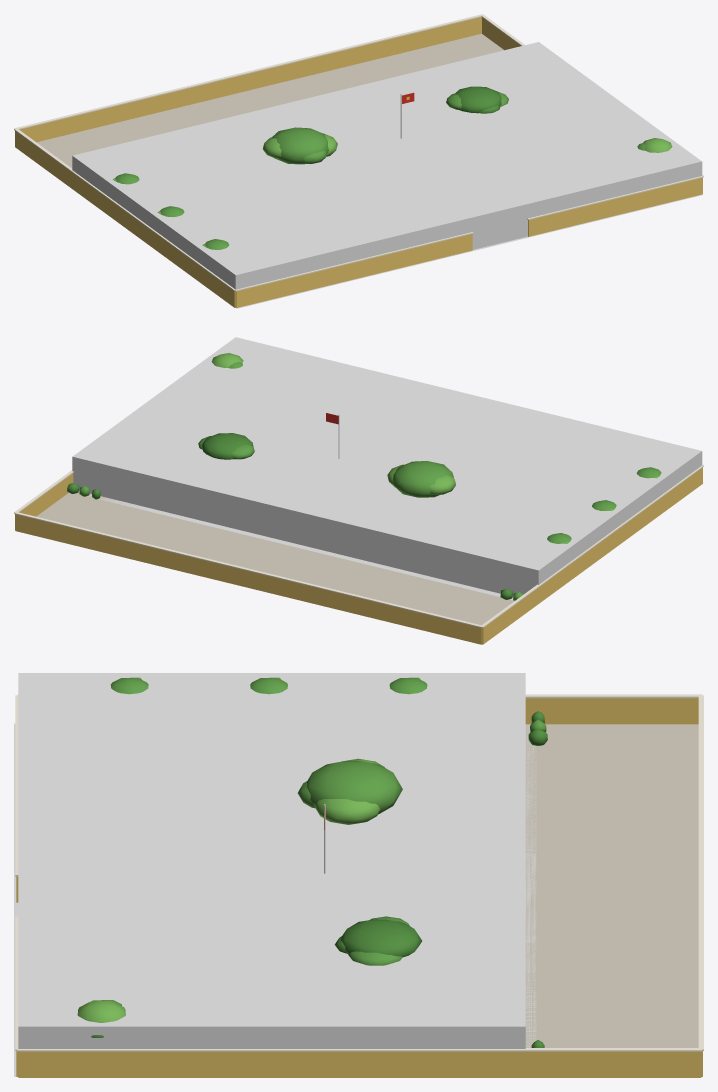
Rendered from zone_yard.glb.
3 views of the same model, one above another, from view 1: azimuth 30°, elevation 25°; view 2: azimuth 150°, elevation 25°; view 3: azimuth 270°, elevation 25° (orthographic). The views are drawn at different scales.
Visible parts, largest first — view 1: ZONE_yard, GROUND_yard_concrete, WALL_fence_north, WALL_fence_south_w, WALL_fence_west, WALL_fence_south_e, TREE_phuong, TREE_bang, WALL_fence_east, FLOOR_yard; view 2: ZONE_yard, GROUND_yard_concrete, WALL_fence_north, WALL_fence_west, TREE_phuong, FLOOR_yard, TREE_bang, WALL_fence_east; view 3: ZONE_yard, GROUND_yard_concrete, WALL_fence_east, WALL_fence_west, TREE_phuong, FLOOR_yard, TREE_bang, WALL_fence_north, TREE_east_1, WALL_fence_south_w.
Boxes of the visible parts, x1=… form: ZONE_yard: x1=72, y1=42, x2=702, y2=289; GROUND_yard_concrete: x1=37, y1=33, x2=503, y2=168; WALL_fence_north: x1=14, y1=14, x2=482, y2=142; WALL_fence_south_w: x1=235, y1=232, x2=473, y2=307; WALL_fence_west: x1=14, y1=128, x2=236, y2=307; WALL_fence_south_e: x1=527, y1=176, x2=703, y2=236; TREE_phuong: x1=263, y1=127, x2=337, y2=164; TREE_bang: x1=446, y1=86, x2=508, y2=113; WALL_fence_east: x1=481, y1=14, x2=703, y2=193; FLOOR_yard: x1=236, y1=194, x2=702, y2=308; ZONE_yard: x1=72, y1=337, x2=702, y2=596; GROUND_yard_concrete: x1=36, y1=491, x2=514, y2=625; WALL_fence_north: x1=14, y1=512, x2=482, y2=644; WALL_fence_west: x1=481, y1=465, x2=703, y2=644; TREE_phuong: x1=387, y1=461, x2=455, y2=497; FLOOR_yard: x1=77, y1=482, x2=703, y2=599; TREE_bang: x1=198, y1=433, x2=254, y2=459; WALL_fence_east: x1=14, y1=470, x2=73, y2=529; ZONE_yard: x1=18, y1=673, x2=525, y2=1048; GROUND_yard_concrete: x1=525, y1=724, x2=698, y2=1047; WALL_fence_east: x1=17, y1=1048, x2=702, y2=1077; WALL_fence_west: x1=17, y1=694, x2=702, y2=724; TREE_phuong: x1=297, y1=758, x2=402, y2=824; FLOOR_yard: x1=14, y1=723, x2=536, y2=1076; TREE_bang: x1=334, y1=916, x2=421, y2=965; WALL_fence_north: x1=698, y1=695, x2=703, y2=1076; TREE_east_1: x1=77, y1=1000, x2=125, y2=1037; WALL_fence_south_w: x1=15, y1=695, x2=18, y2=902.
Size of what is drawn, in the model's own units: 60.39 by 9.57 by 49.5.
